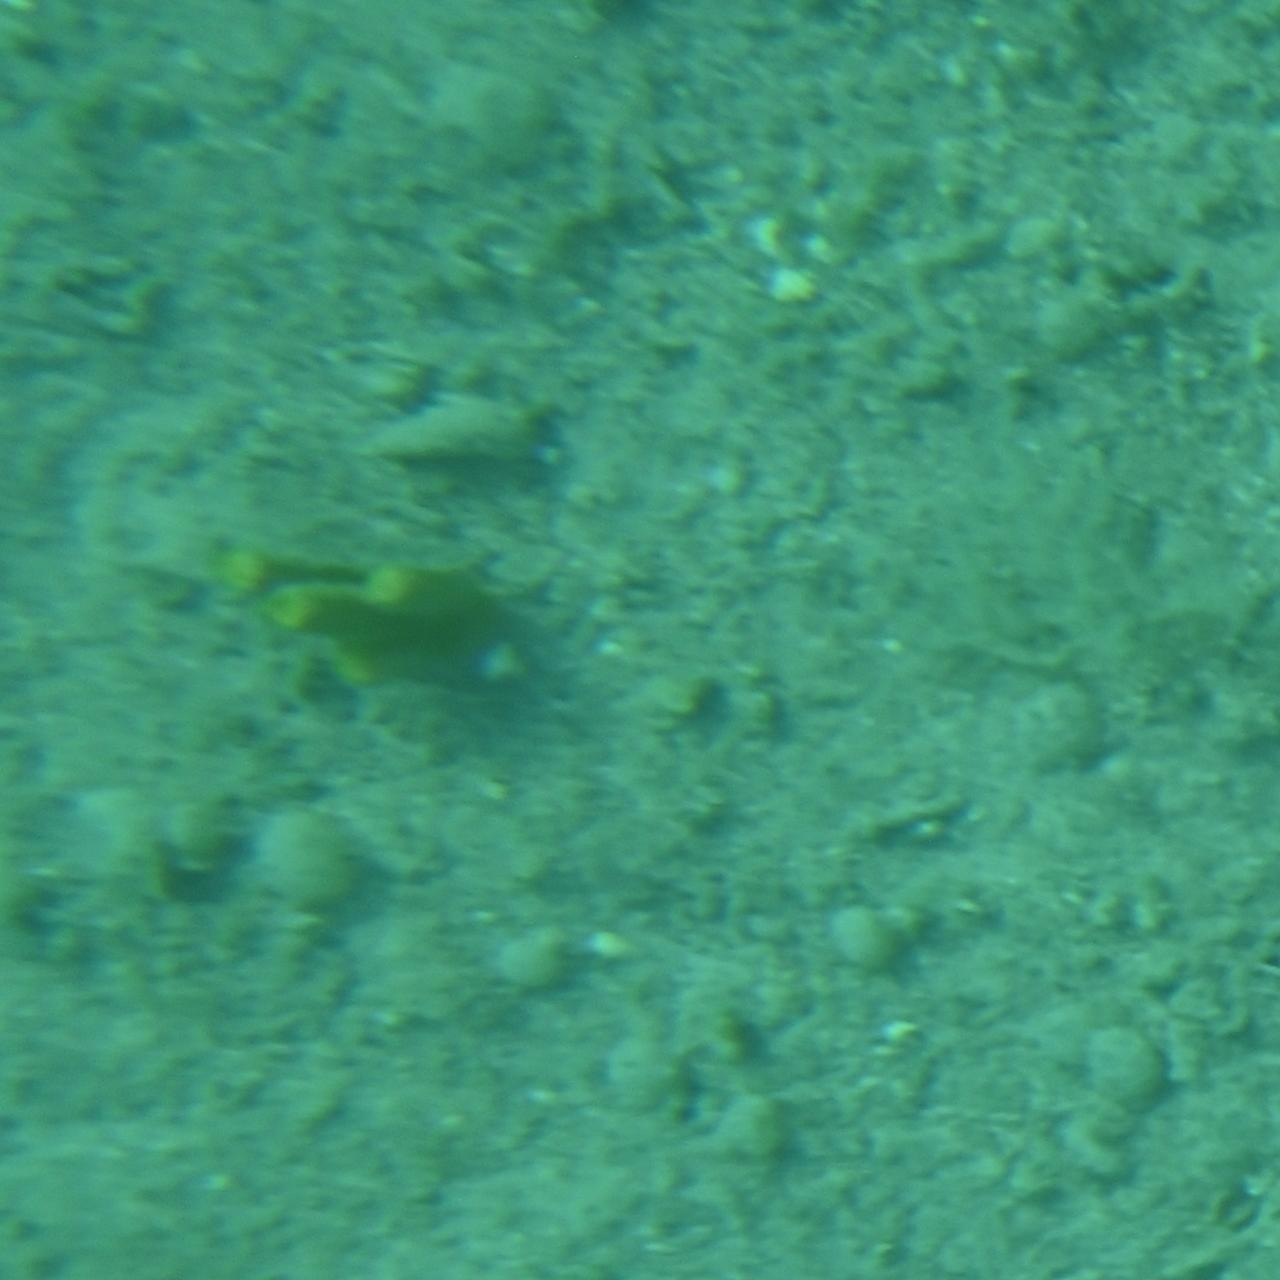Aplysina aerophoba: (200, 533, 497, 747)
